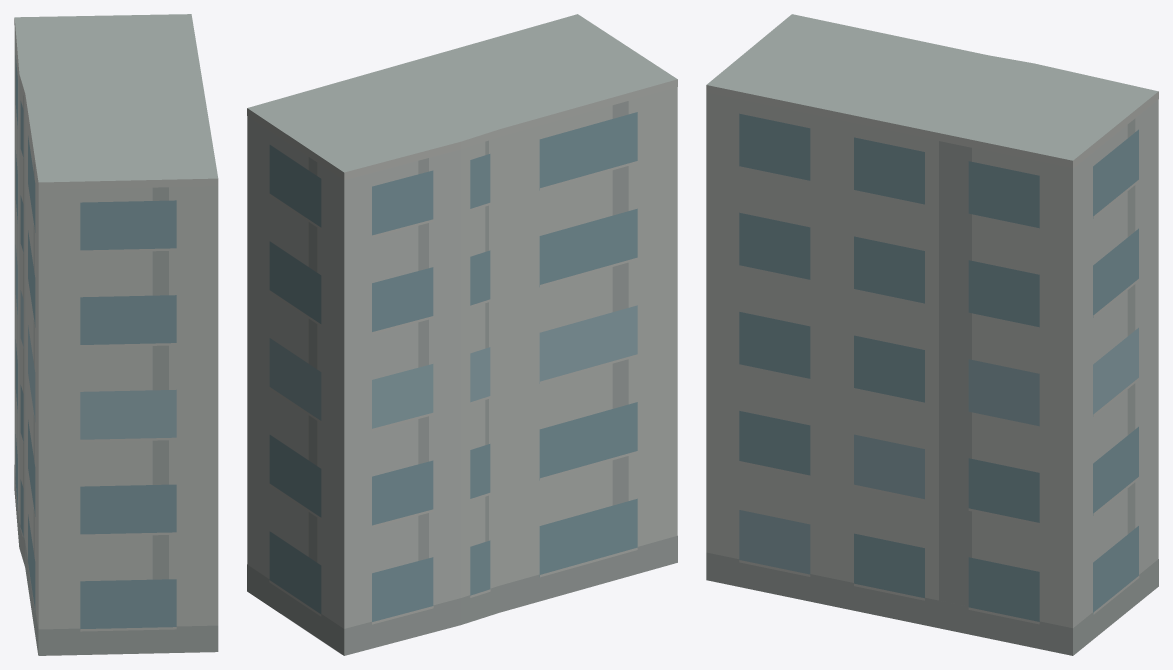
File: survey-upis-32727845.glb
The picture shows the model from 3 angles, left to right: view 1: azimuth 30°, elevation 25°; view 2: azimuth 150°, elevation 25°; view 3: azimuth 270°, elevation 25°; orthographic projection. The views are drawn at different scales.
Parts seen in each view (by area): view 1: survey-upis-32727845.tmp; view 2: survey-upis-32727845.tmp; view 3: survey-upis-32727845.tmp.
Boxes of the visible parts, x1,y1,x2,y2 form: survey-upis-32727845.tmp: [14, 14, 218, 655]; survey-upis-32727845.tmp: [247, 14, 677, 655]; survey-upis-32727845.tmp: [706, 14, 1158, 655].
Bounding box in the file's own units: 9.63 × 15.14 × 12.54.
